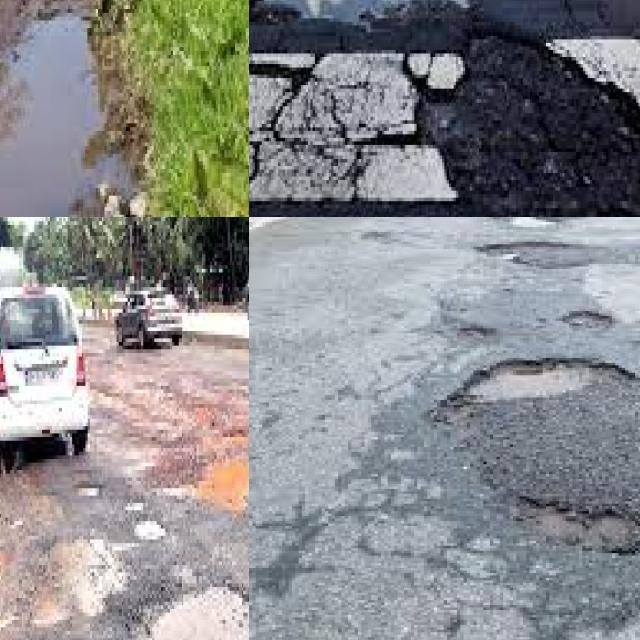Pothole: (0, 13, 150, 217), (249, 0, 481, 57), (437, 358, 640, 410), (516, 496, 640, 556), (61, 543, 97, 616)
